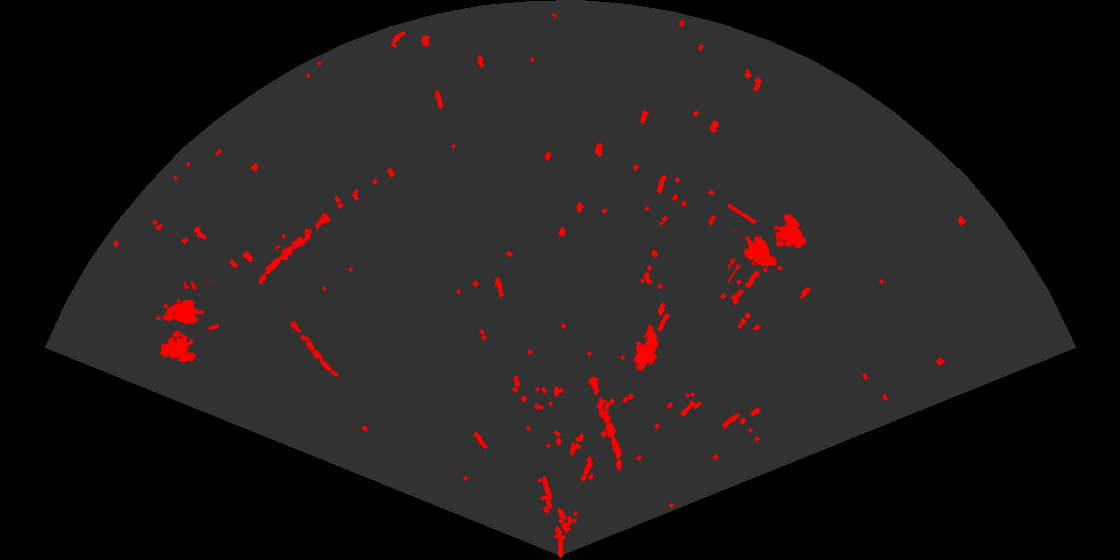AUV: (632, 324, 660, 373)
cage: (728, 201, 808, 284), (154, 281, 219, 364)
chain: (257, 212, 332, 286), (283, 315, 341, 380), (586, 374, 624, 472)
